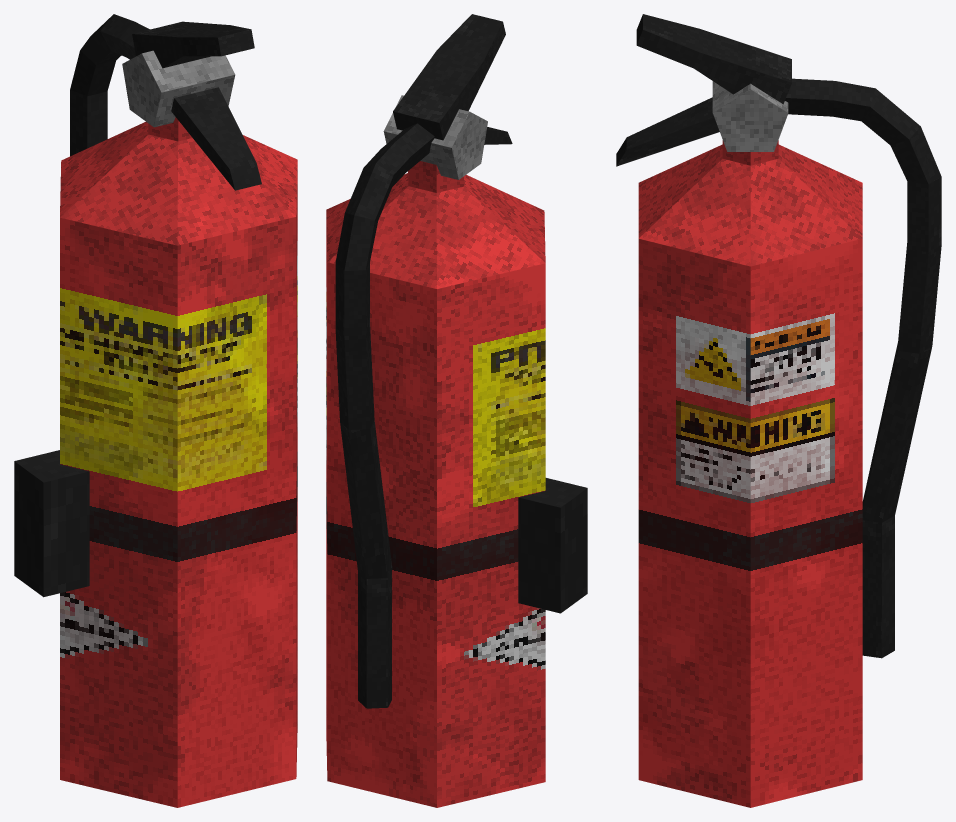
Rendered from feuerloscher.glb.
3 renders of one model, left to right at view 1: azimuth 30°, elevation 25°; view 2: azimuth 150°, elevation 25°; view 3: azimuth 270°, elevation 25°, orthographic. The views are drawn at different scales.
Visible parts, largest first — view 1: tank_0; view 2: tank_0; view 3: tank_0.
Part boxes in pixels (box(x1,y1,x2,y2)): tank_0: box(14, 14, 297, 807); tank_0: box(326, 14, 587, 807); tank_0: box(616, 14, 941, 807).
Bounding box in the file's own units: 0.5003 × 1.35 × 0.5449.
1 material, 1 textured.
